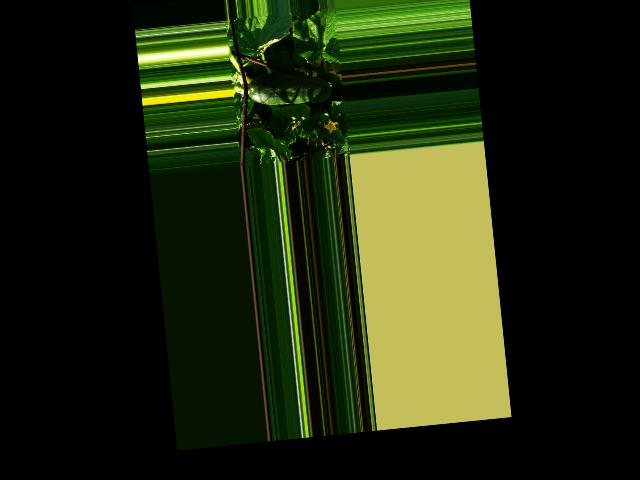cucumber: (246, 66, 332, 109)
